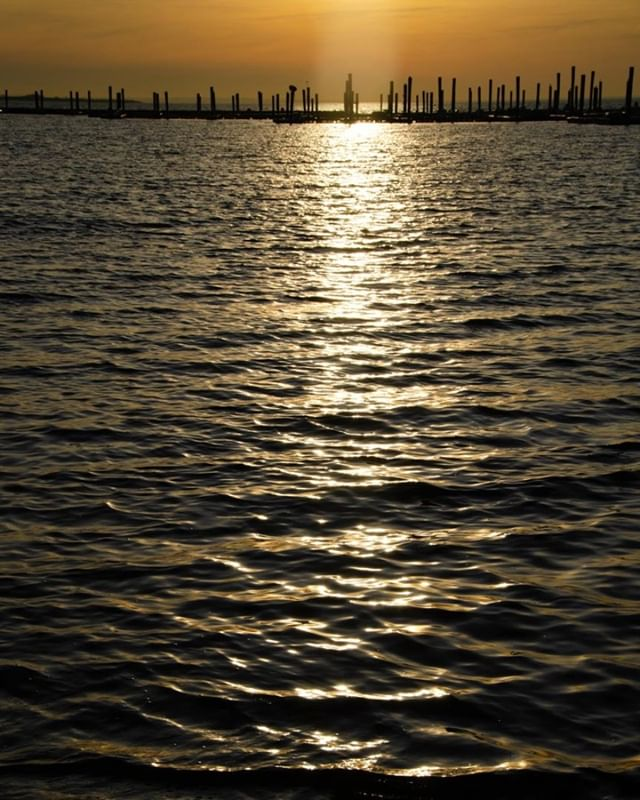sea: (1, 116, 640, 800)
sky: (11, 4, 640, 89)
